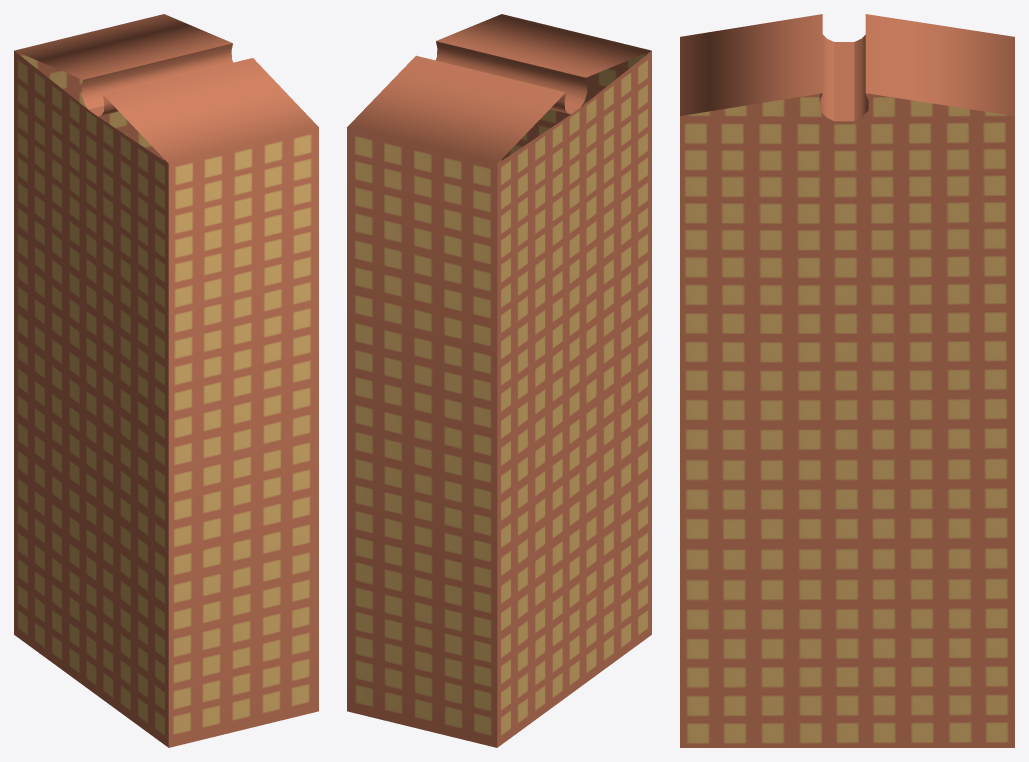
Rendered from stWhole.fbx.
3 renders of one model, left to right at view 1: azimuth 30°, elevation 25°; view 2: azimuth 150°, elevation 25°; view 3: azimuth 270°, elevation 25°, orthographic. The views are drawn at different scales.
Parts seen in each view (by area): view 1: SonyTower; view 2: SonyTower; view 3: SonyTower.
Boxes of the visible parts, left/top/right/bottom form: SonyTower: left=14, top=14, right=318, bottom=747; SonyTower: left=347, top=14, right=651, bottom=747; SonyTower: left=680, top=14, right=1014, bottom=747.
Size of the model in its own units: 0.0992 by 0.3821 by 0.1771.
Materials: 1 (1 with a texture image).
